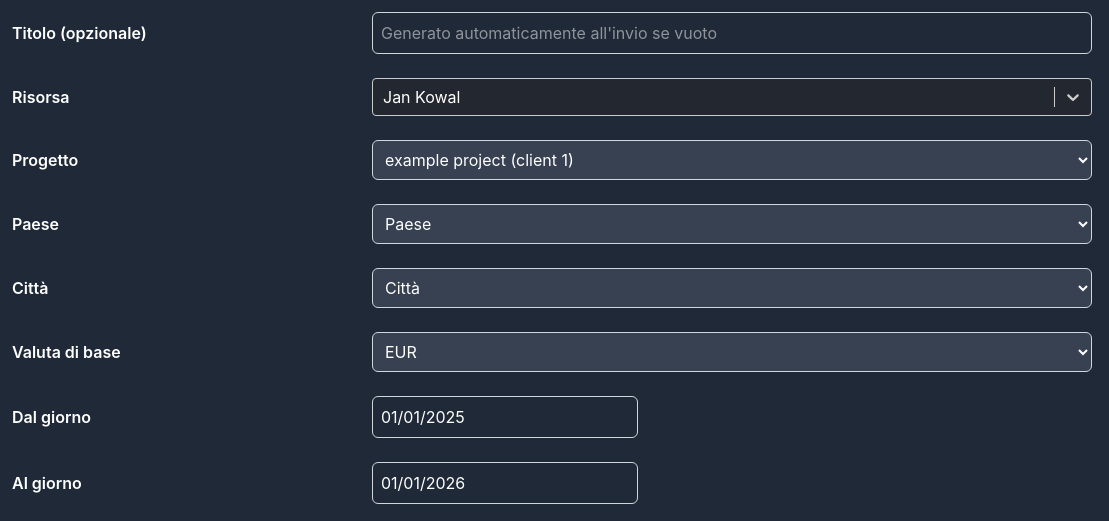
Test: CreateMissionFrom › projects of the resource › lists only the projects of the chosen resource and clears the project when it changes
This screenshot has width=1109, height=521.
Expected: the dropdown with test id "project-select" shows "example project (client 1)", x1=372 y1=140 x2=1092 y2=180
Step 1. Press ArrowDown in the dropdown named "Risorsa", box x1=383 y1=85 x2=388 y2=109
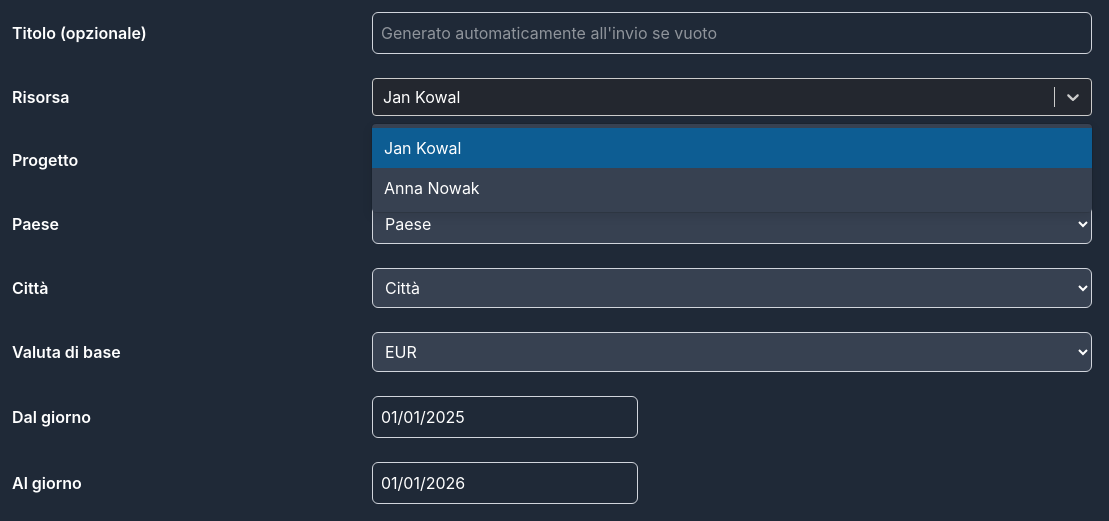
Step 2. Click the option "Anna Nowak" → coordinates (432, 188), box x1=384 y1=178 x2=480 y2=198
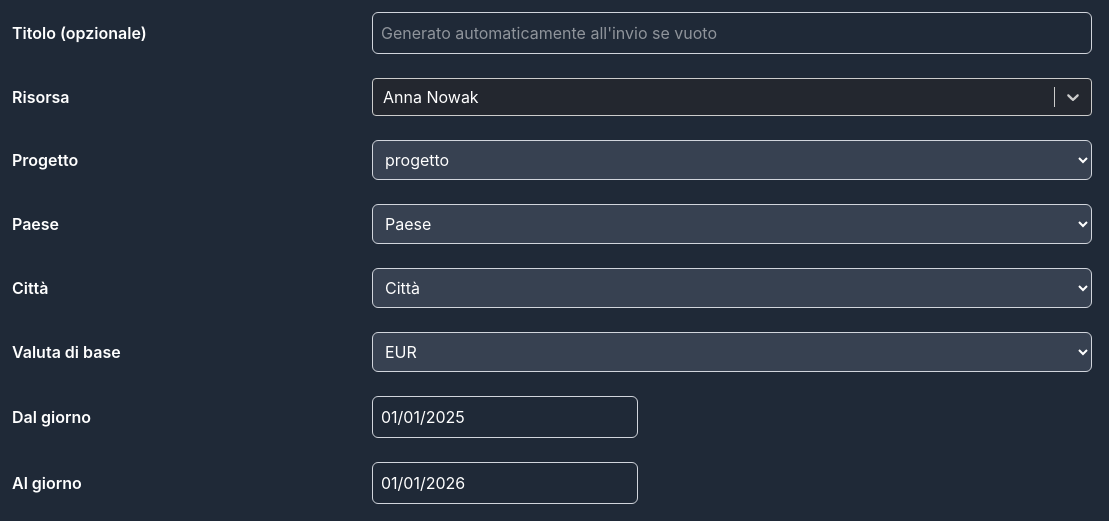
Now the dropdown with test id "project-select" shows "progetto", box x1=372 y1=140 x2=1092 y2=180
